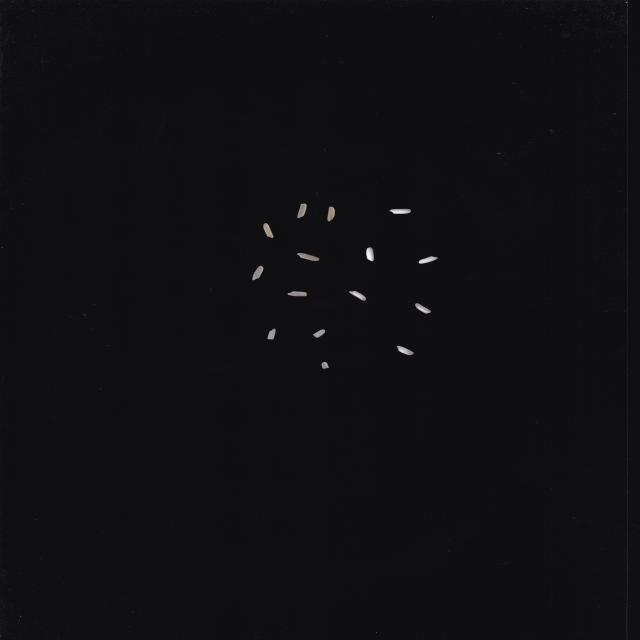Chalky: (349, 290, 366, 301), (415, 303, 431, 314), (397, 346, 414, 356)
Not: (297, 253, 320, 261), (262, 223, 274, 238), (252, 266, 264, 280), (418, 256, 438, 264), (297, 204, 307, 218), (389, 208, 412, 214), (366, 247, 375, 262), (327, 206, 335, 222), (312, 329, 326, 338), (288, 291, 308, 297), (267, 328, 276, 340), (322, 362, 329, 369)
